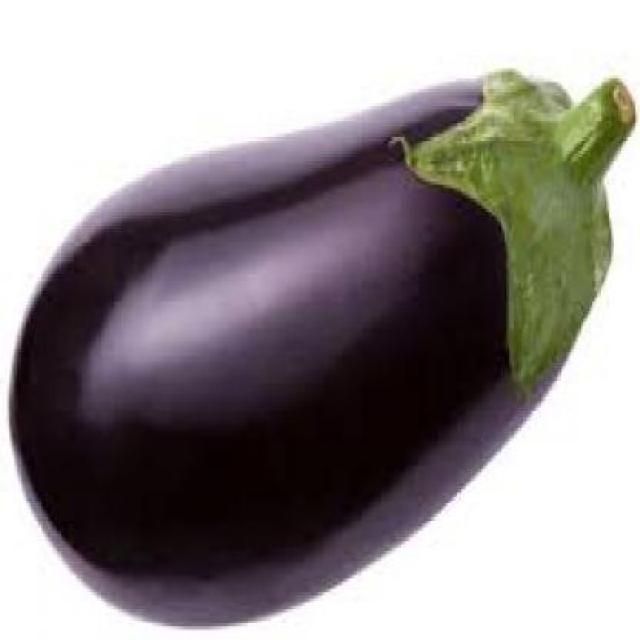BIODEGRADABLE: (7, 68, 638, 623)
